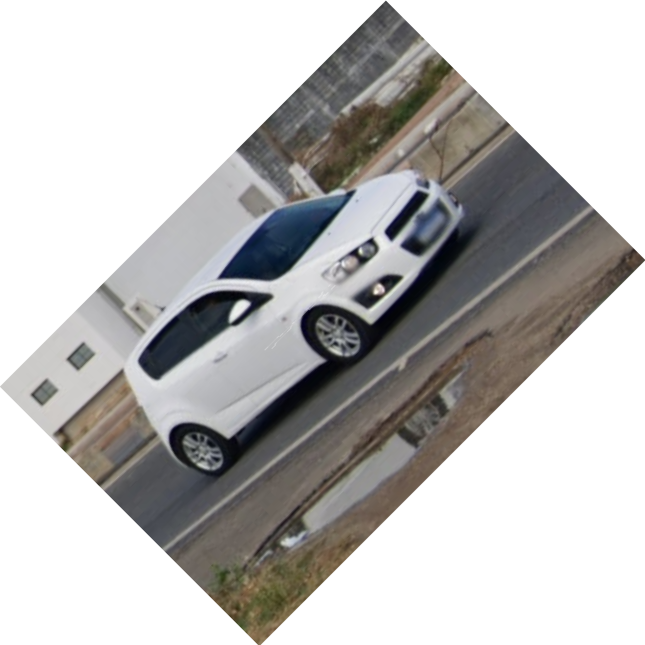car: (119, 163, 469, 479)
